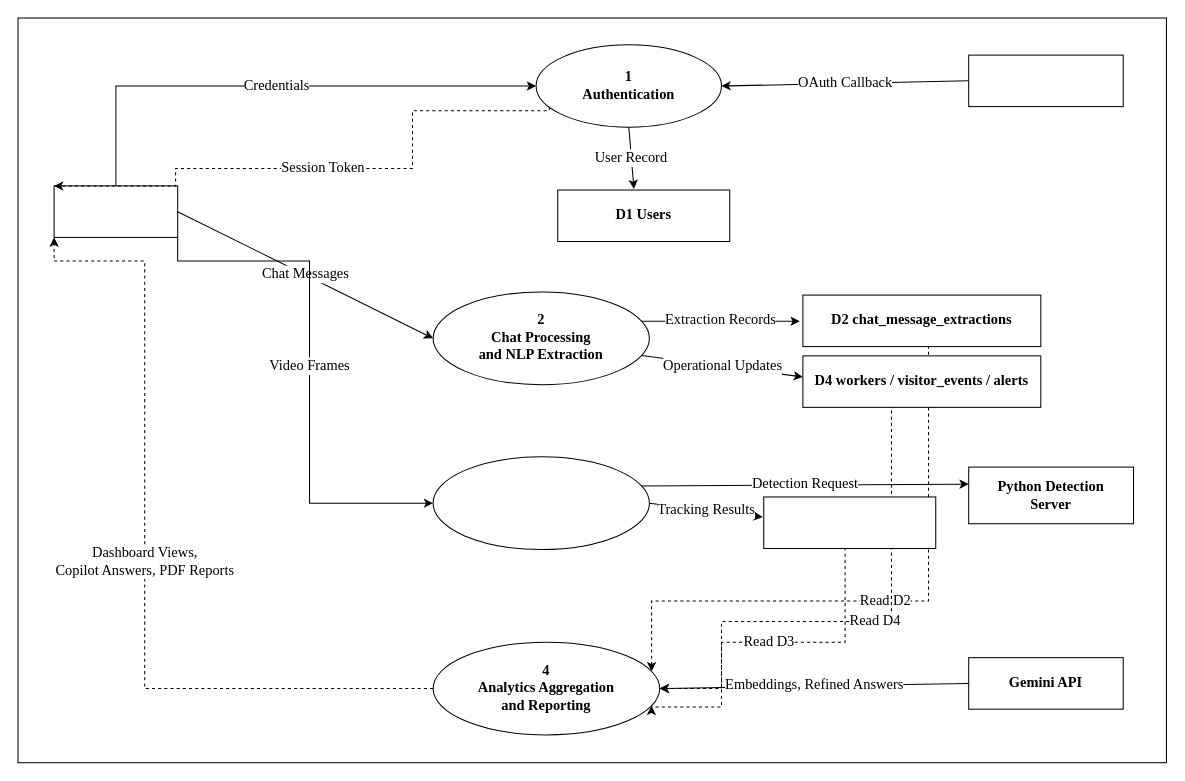
Some shapes in this 1185 by 781 pixel diagram are drawn without their labels. The shapes that lost their labels are listed below. From the top down, each one's centre as x and y in pixels, then its label:
At [1045,80]: "Google OAuth".
At [115,211]: "Users".
At [540,503]: "3 Visitor Detection and Tracking".
At [849,522]: "D3 video_analyses".
